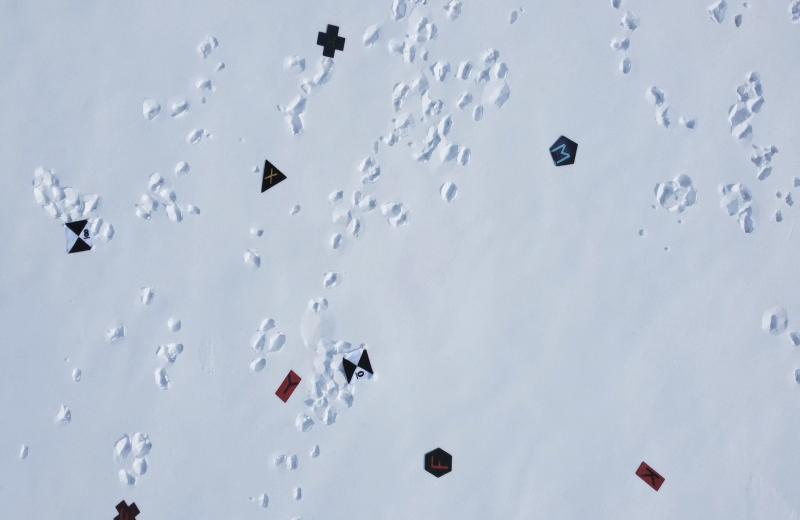Cross: (317, 27, 347, 62), (113, 499, 143, 520)
Hexagon: (422, 447, 453, 478)
Pentagon: (548, 134, 579, 169)
Rectangle: (634, 462, 666, 494), (274, 371, 303, 405)
Triangle: (260, 160, 288, 196)
